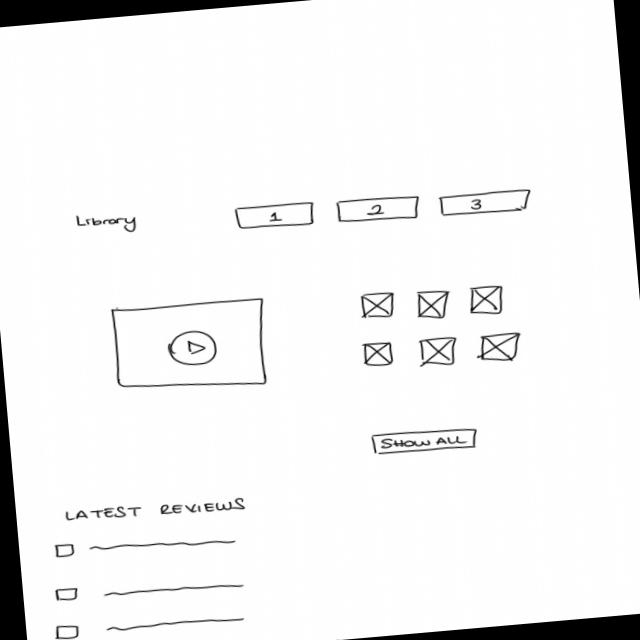button: (371, 426, 480, 460), (438, 188, 534, 218), (335, 194, 423, 226), (235, 201, 316, 232)
checkbox: (54, 572, 246, 607), (53, 528, 239, 562), (54, 608, 246, 640)
image: (477, 331, 526, 366), (418, 335, 460, 368), (468, 283, 507, 318), (415, 287, 452, 322), (359, 290, 398, 320), (362, 341, 397, 370)
label: (64, 495, 253, 528), (74, 210, 142, 240)
